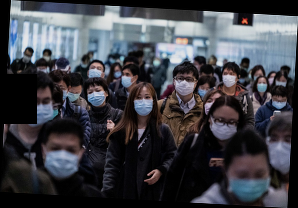with_mask: (227, 164, 270, 204), (43, 141, 79, 180), (20, 93, 53, 127), (267, 131, 291, 173), (210, 114, 237, 141), (133, 92, 154, 116), (175, 73, 196, 97), (87, 86, 107, 107), (222, 70, 237, 89), (120, 70, 134, 89), (67, 89, 82, 103), (88, 64, 102, 79), (272, 96, 287, 110), (197, 85, 211, 99), (257, 80, 269, 95), (112, 67, 122, 78), (276, 79, 287, 88)
